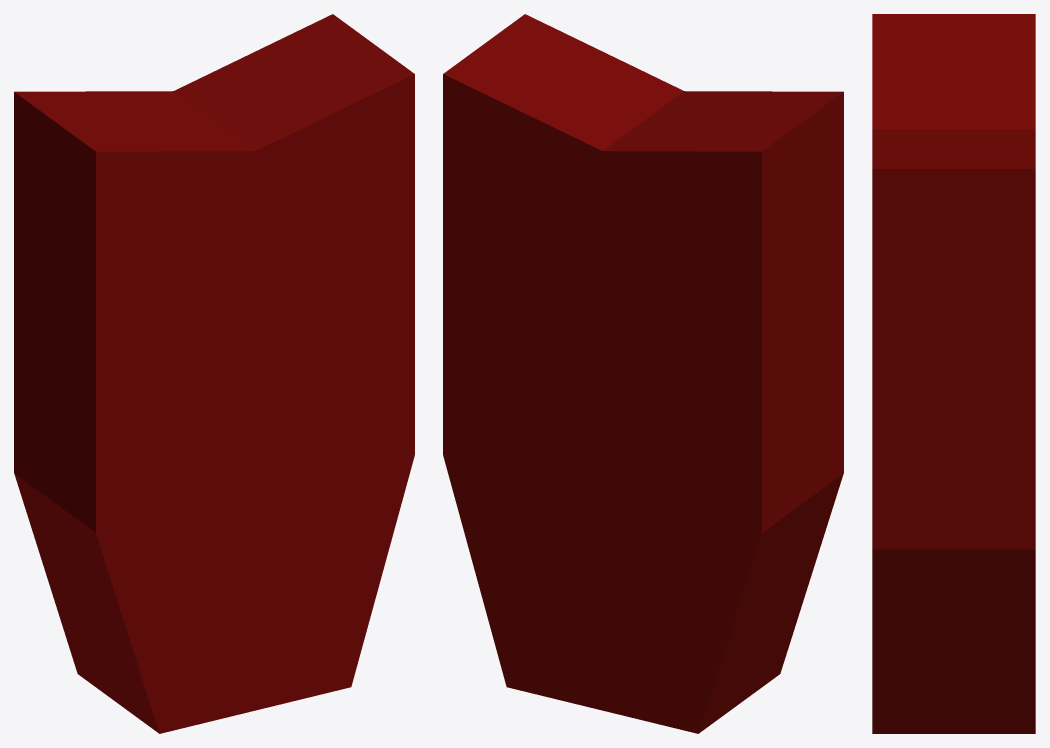
File: lighter.001.fbx
The picture shows the model from 3 angles, left to right: view 1: azimuth 30°, elevation 25°; view 2: azimuth 150°, elevation 25°; view 3: azimuth 270°, elevation 25°; orthographic projection.
Parts seen in each view (by area): view 1: lighter.001; view 2: lighter.001; view 3: lighter.001.
Boxes of the visible parts, x1,y1,x2,y2 form: lighter.001: [14, 14, 414, 733]; lighter.001: [443, 14, 843, 733]; lighter.001: [872, 14, 1035, 733].
Size of the model in its own units: 23.75 by 42.55 by 10.57.
